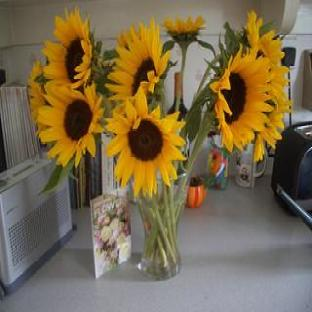sunflower: (106, 86, 187, 198)
